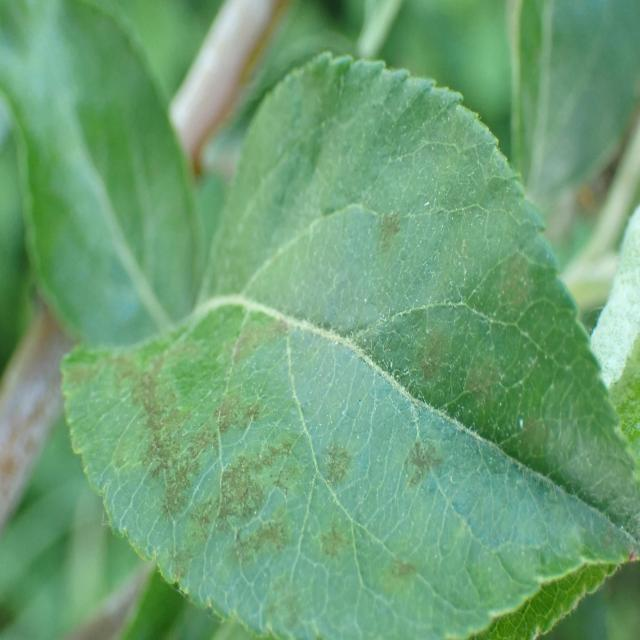scab: (62, 165, 634, 629)
